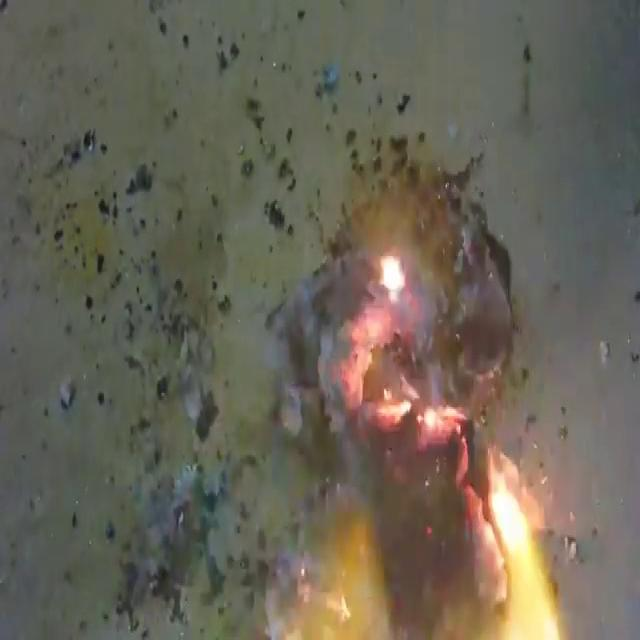Fire: (203, 81, 595, 640)
